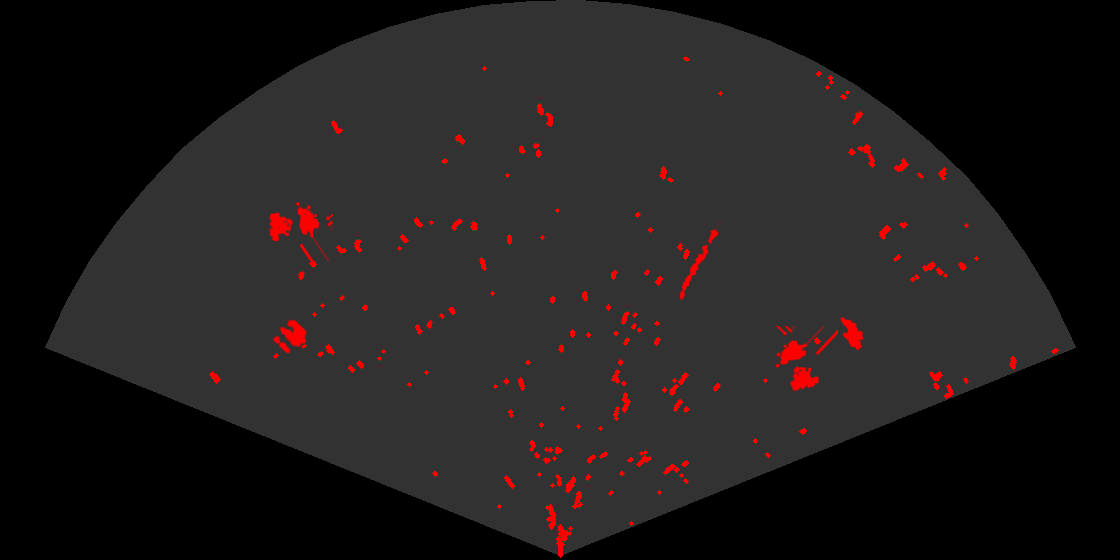AUV: (839, 315, 865, 352)
ball: (272, 318, 308, 355)
cage: (774, 326, 838, 393), (267, 200, 333, 261)
chain: (678, 220, 723, 301)
